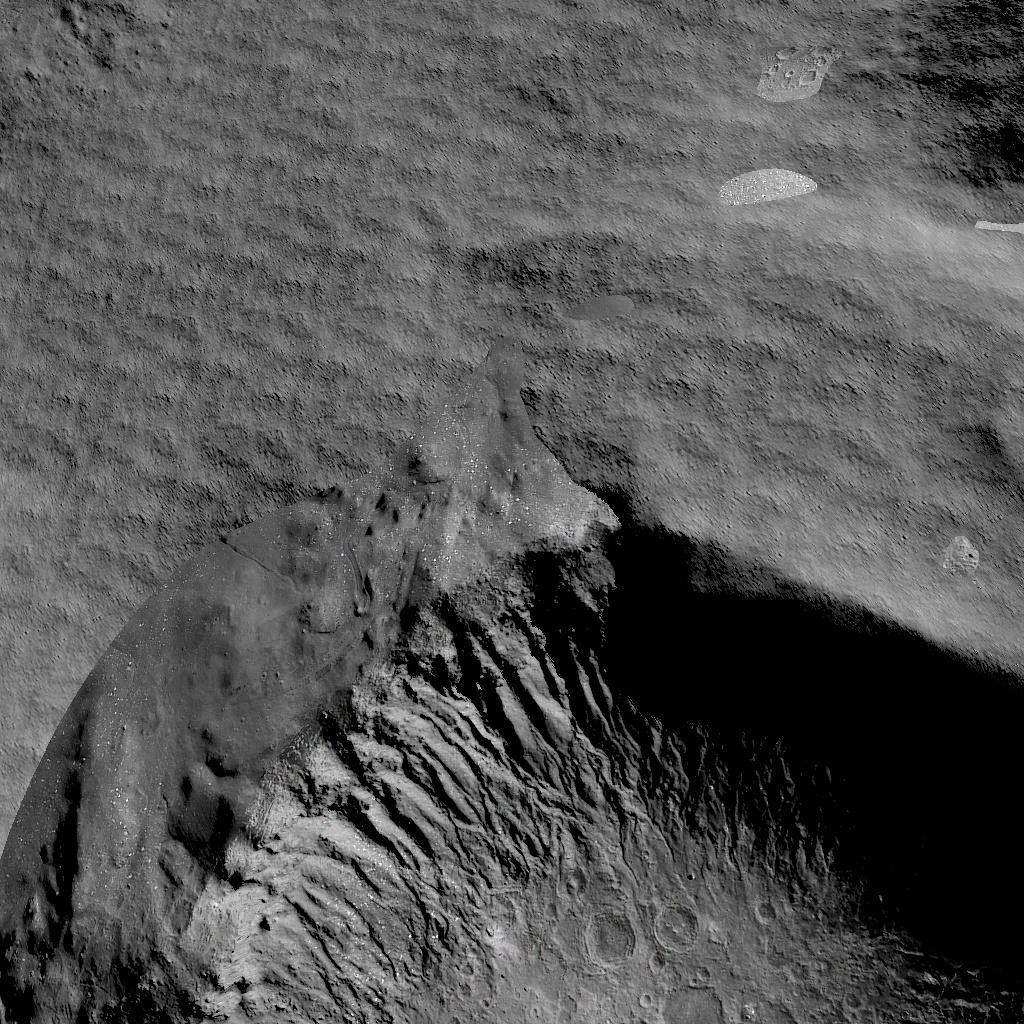Boulders: (2, 2, 186, 190)
Crater: (0, 419, 1024, 1024), (882, 0, 1021, 208)
Plan surface: (0, 234, 854, 386), (218, 0, 818, 210)
